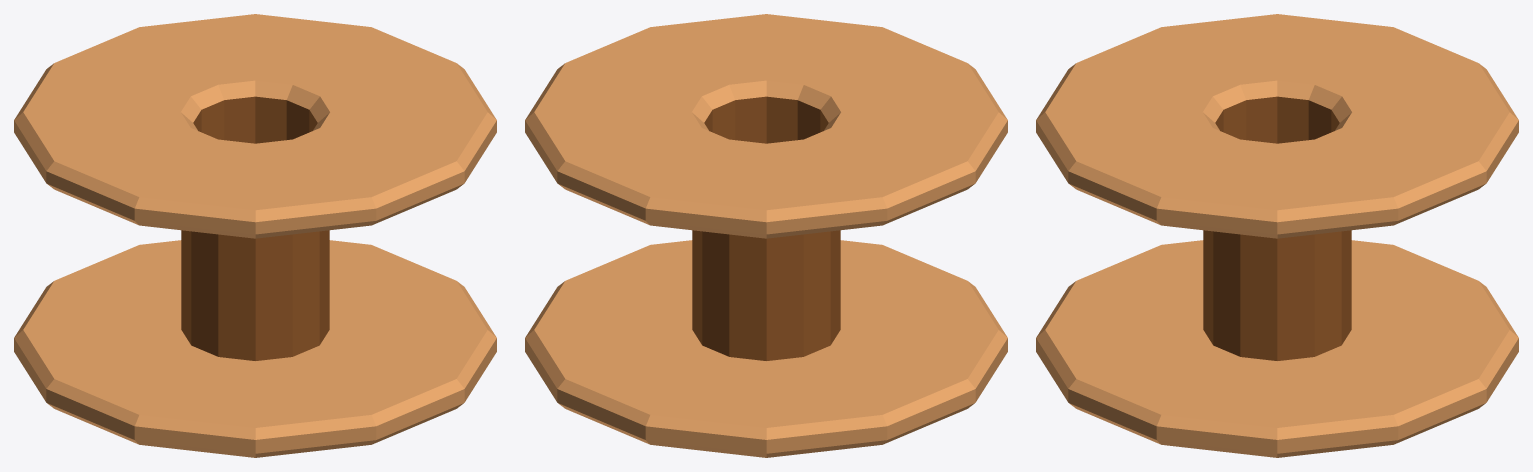
The model's file is Spool A.fbx.
The picture shows the model from 3 angles, left to right: view 1: azimuth 30°, elevation 25°; view 2: azimuth 150°, elevation 25°; view 3: azimuth 270°, elevation 25°; orthographic projection.
Parts seen in each view (by area): view 1: Spool A; view 2: Spool A; view 3: Spool A.
Boxes of the visible parts, x1=… form: Spool A: x1=14, y1=14, x2=496, y2=457; Spool A: x1=525, y1=14, x2=1007, y2=457; Spool A: x1=1036, y1=14, x2=1518, y2=457.
Bounding box in the file's own units: 199 × 113 × 199.
